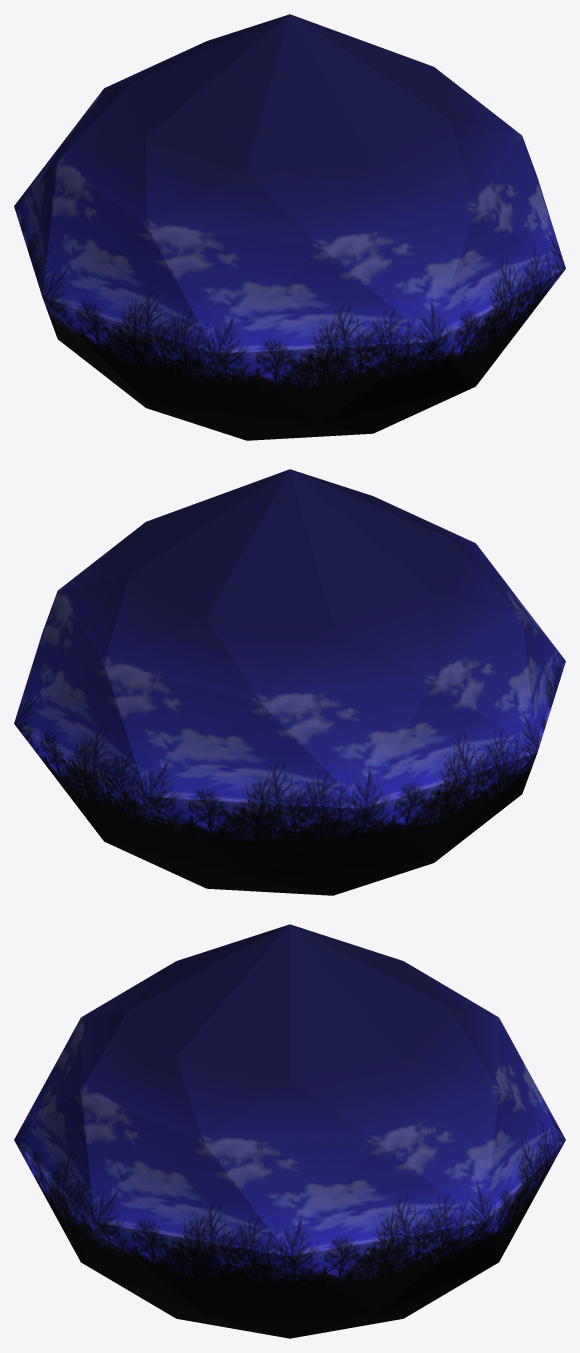
3 views of the same model, one above another, from view 1: azimuth 30°, elevation 25°; view 2: azimuth 150°, elevation 25°; view 3: azimuth 270°, elevation 25° (orthographic). The views are drawn at different scales.
Parts seen in each view (by area): view 1: vr05; view 2: vr05; view 3: vr05.
Boxes of the visible parts, x1=… form: vr05: x1=14, y1=14, x2=565, y2=440; vr05: x1=14, y1=469, x2=565, y2=895; vr05: x1=14, y1=924, x2=565, y2=1338.
Bounding box in the file's own units: 117964 × 81688 × 117964.
3 materials, 3 textured.
